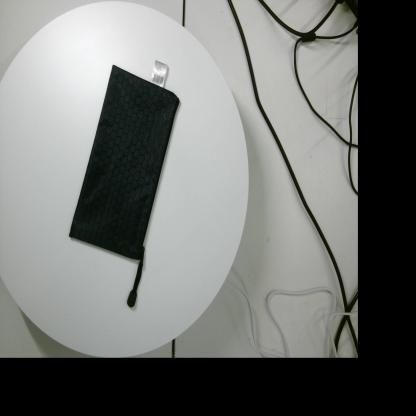Stationery: (68, 60, 180, 308)
